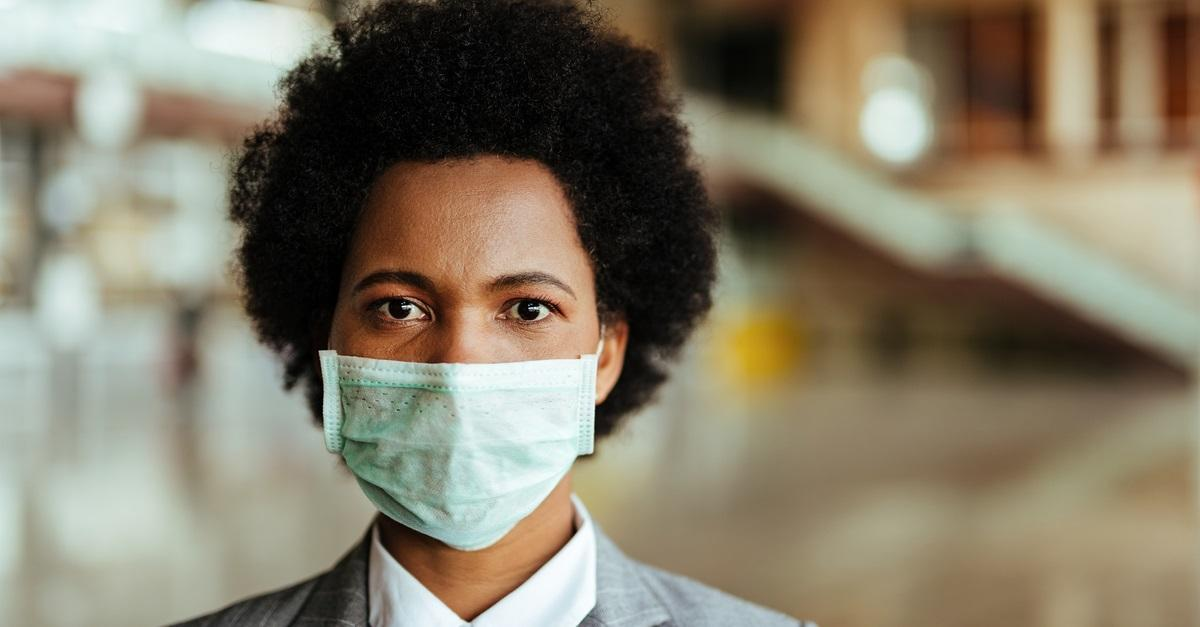mask: (315, 340, 607, 568)
